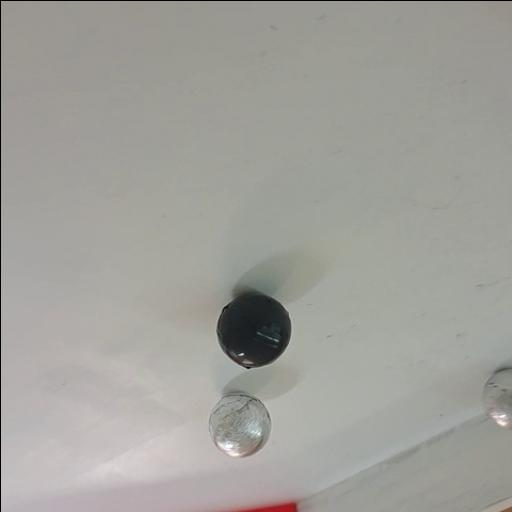alive: (207, 392, 271, 457), (481, 369, 512, 431)
dead: (214, 292, 292, 370)
